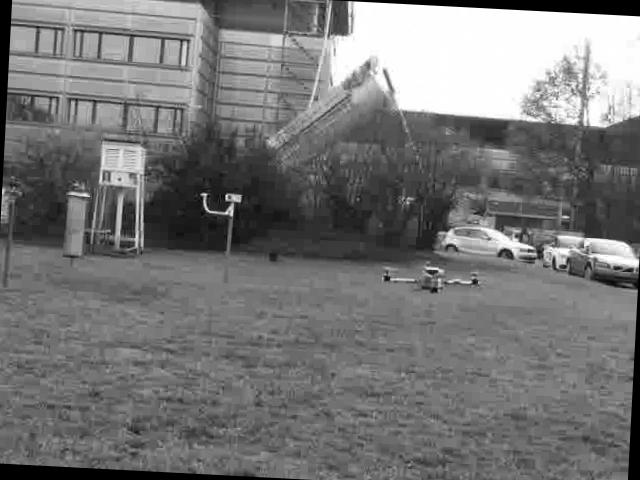drone: (378, 258, 482, 298)
